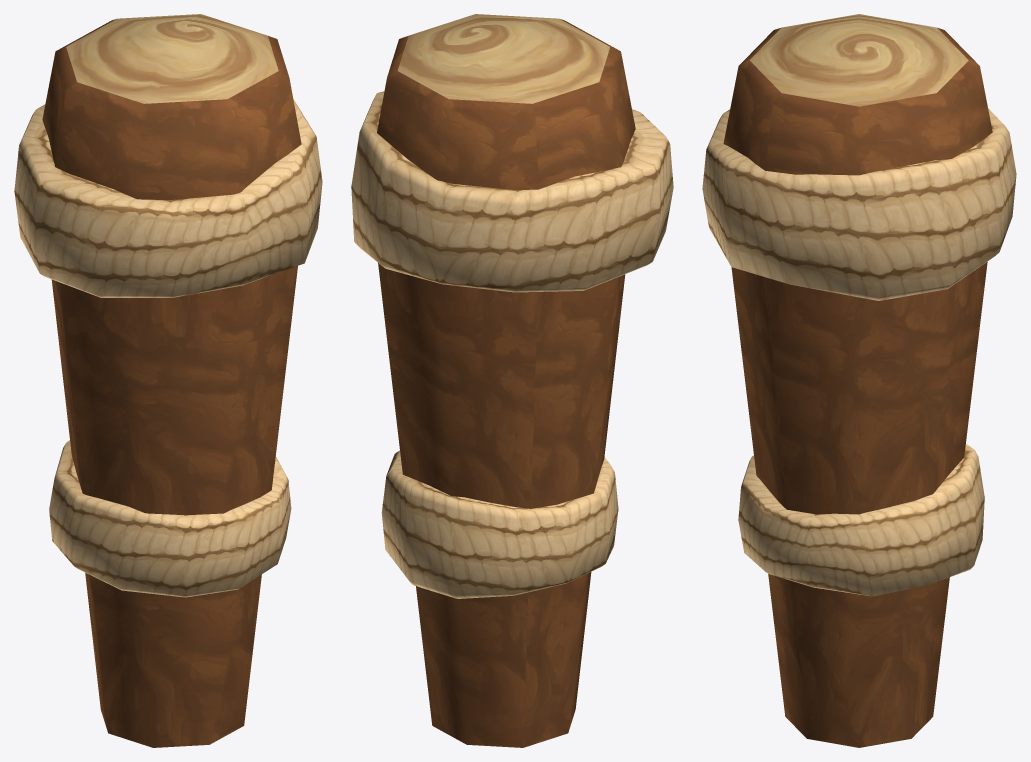
Rendered from StumpWithRope.fbx.
The picture shows the model from 3 angles, left to right: view 1: azimuth 30°, elevation 25°; view 2: azimuth 150°, elevation 25°; view 3: azimuth 270°, elevation 25°; orthographic projection.
Visible parts, largest first — view 1: polySurface1212; view 2: polySurface1212; view 3: polySurface1212.
Boxes of the visible parts, x1,y1,x2,y2 form: polySurface1212: (14,14,322,747); polySurface1212: (351,14,673,747); polySurface1212: (702,14,1016,747).
Size of the model in its own units: 7.92 by 18.68 by 7.82.
